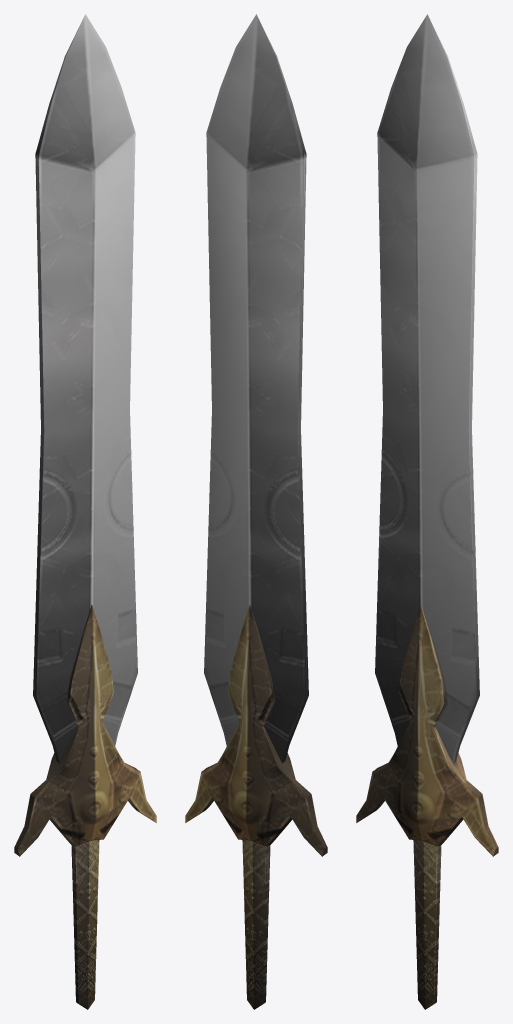
Rendered from WeaponSword001.fbx.
3 renders of one model, left to right at view 1: azimuth 30°, elevation 25°; view 2: azimuth 150°, elevation 25°; view 3: azimuth 330°, elevation 25°, orthographic.
Visible parts, largest first — view 1: ModelSword001; view 2: ModelSword001; view 3: ModelSword001.
Boxes of the visible parts, bbox=[...] form: ModelSword001: bbox=[14, 14, 156, 1009]; ModelSword001: bbox=[185, 14, 327, 1009]; ModelSword001: bbox=[356, 14, 498, 1009].
Size of the model in its own units: 11.5 by 78.59 by 3.05.
